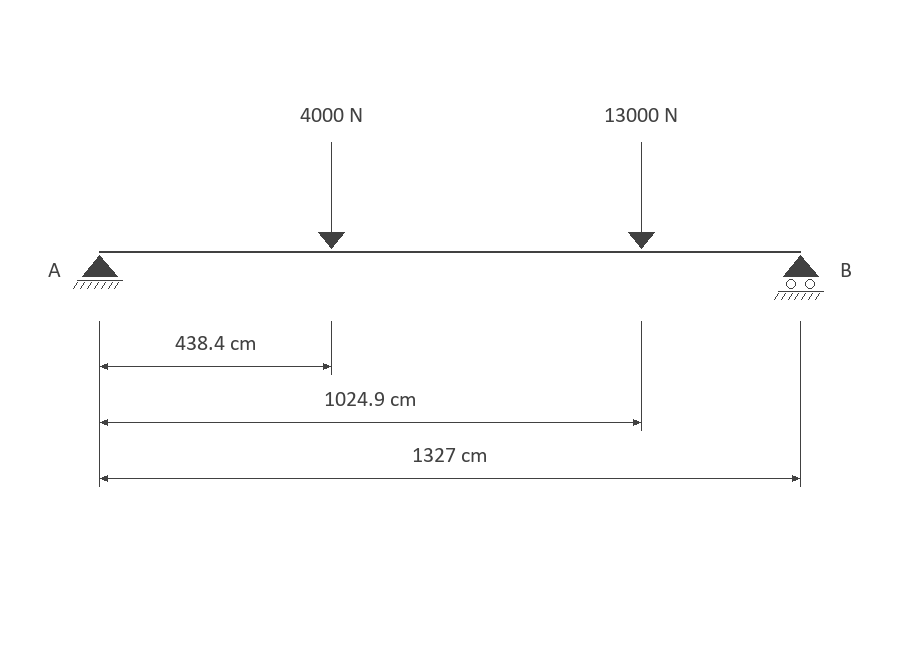pin_support: (73, 255, 123, 289)
point_load: (318, 142, 345, 249), (628, 142, 655, 249)
roller_support: (774, 255, 824, 300)
